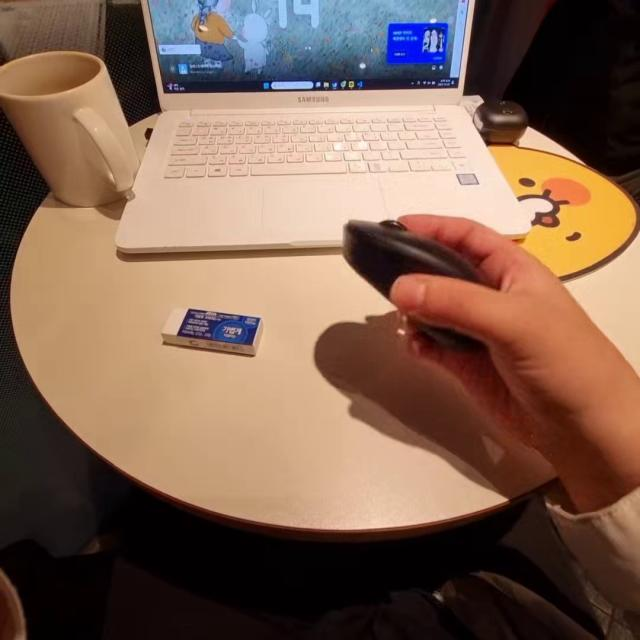eraser: (151, 301, 271, 378)
grab_mouse: (338, 204, 625, 452)
hand: (410, 212, 614, 434)
mouse: (322, 200, 498, 337)
